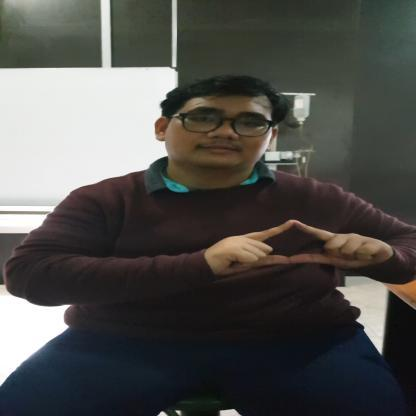A: (204, 218, 390, 275)
